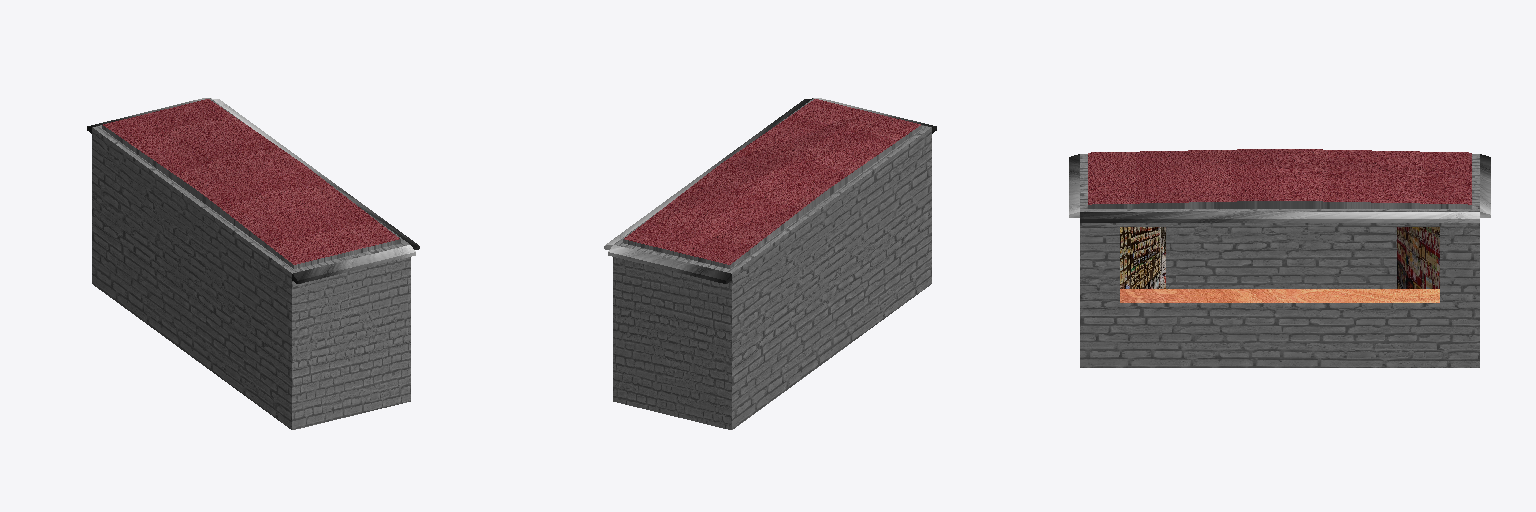
3 renders of one model, left to right at view 1: azimuth 30°, elevation 25°; view 2: azimuth 150°, elevation 25°; view 3: azimuth 270°, elevation 25°, orthographic.
Parts seen in each view (by area): view 1: Cube; view 2: Cube; view 3: Cube, Plane.001, Plane.
Part boxes in pixels (left/top/right/bottom): Cube: left=87, top=98, right=419, bottom=429; Cube: left=604, top=98, right=936, bottom=429; Cube: left=1069, top=149, right=1490, bottom=367; Plane.001: left=1120, top=227, right=1165, bottom=288; Plane: left=1397, top=227, right=1439, bottom=288.
Size of the model in its own units: 2.92 by 3.77 by 8.36.
6 materials, 6 textured.